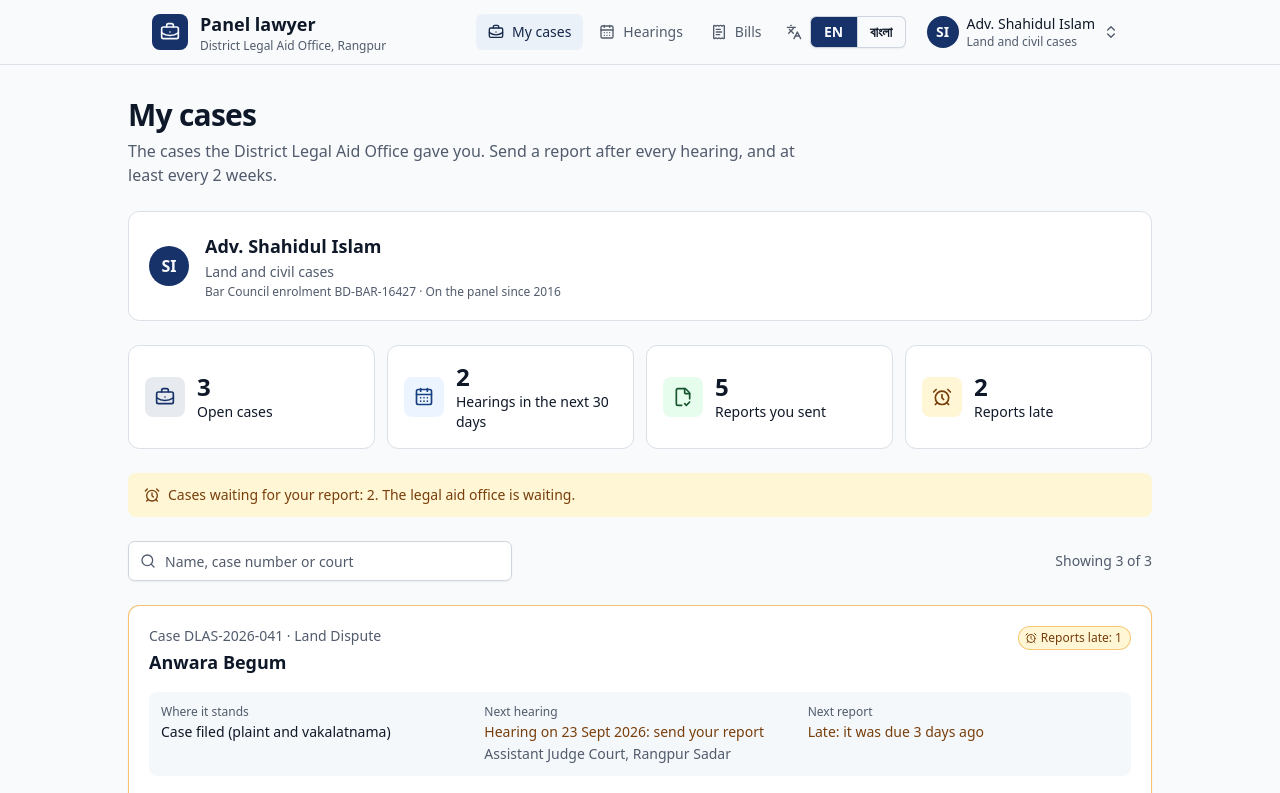
My cases › searches by client, case number or court
In the search field named "Search your cases": coordinates (320, 561) [128, 541, 512, 581], type "joint district"
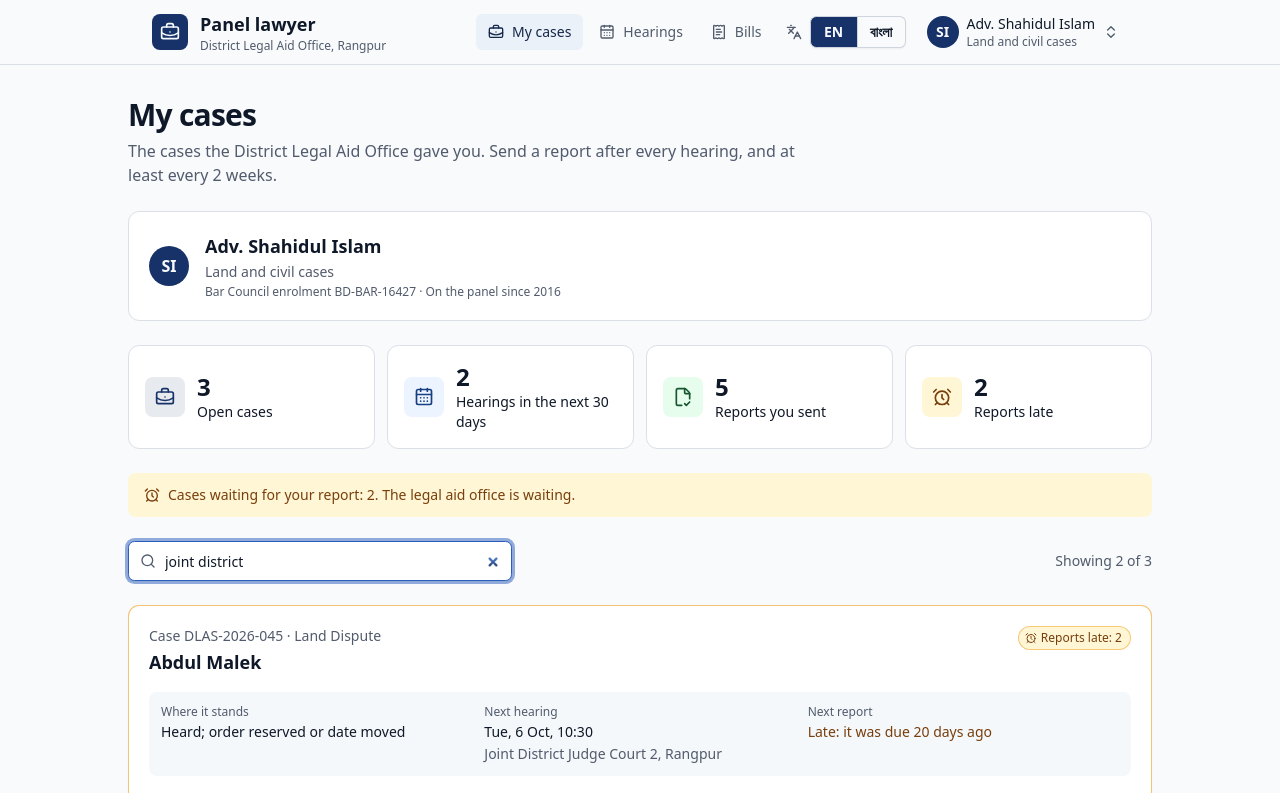
Result: the message reads "Showing 2 of 3" at [1055, 551, 1152, 570]
